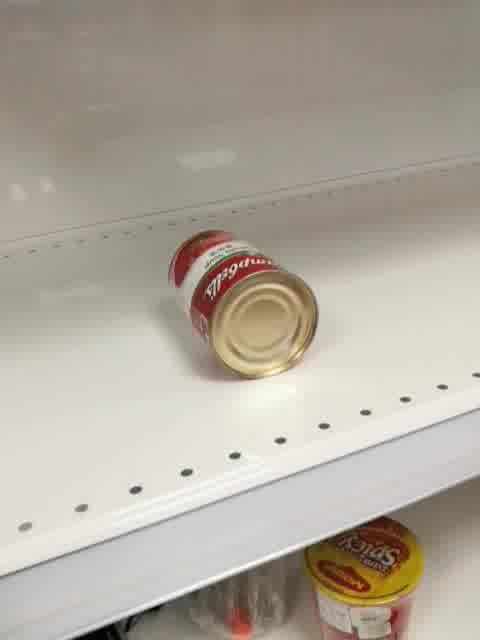tomatosoup: (164, 229, 320, 382)
